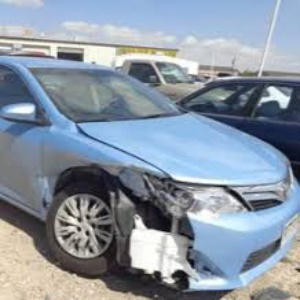door: (73, 125, 140, 171)
